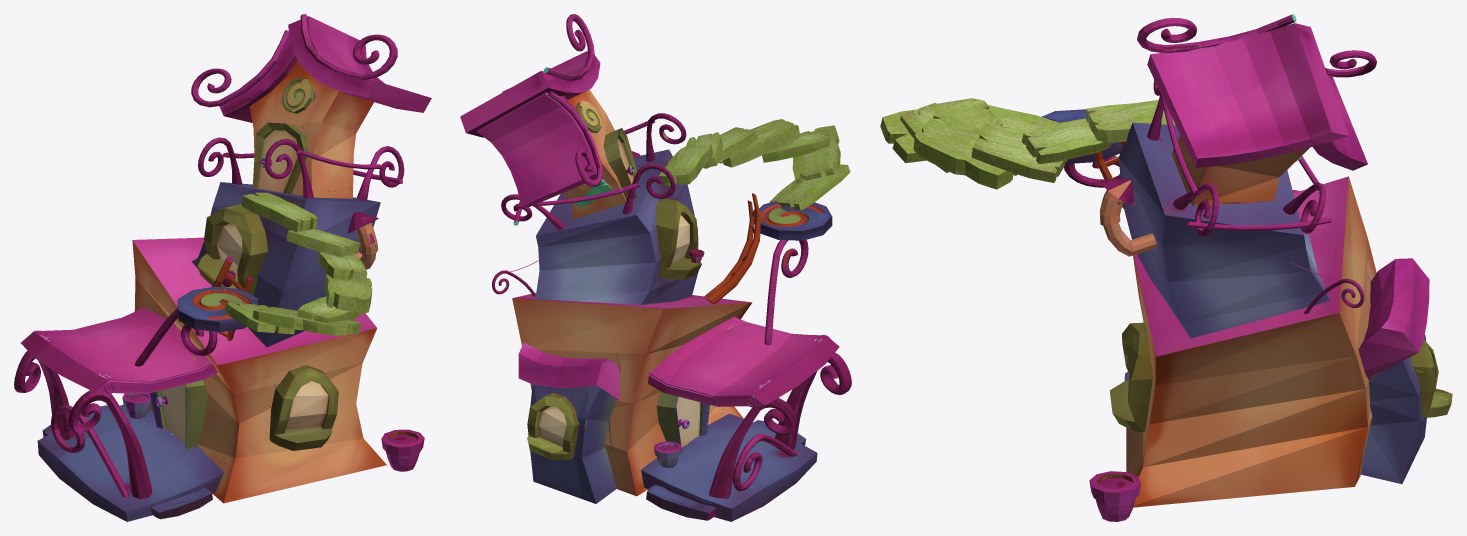
3 renders of one model, left to right at view 1: azimuth 30°, elevation 25°; view 2: azimuth 150°, elevation 25°; view 3: azimuth 270°, elevation 25°, orthographic. The views are drawn at different scales.
Parts seen in each view (by area): view 1: model; view 2: model; view 3: model.
Boxes of the visible parts, left/top/right/bottom form: model: left=14, top=14, right=431, bottom=521; model: left=460, top=14, right=851, bottom=521; model: left=880, top=14, right=1452, bottom=521.
Size of the model in its own units: 0.8939 by 0.9752 by 1.
1 material, 1 textured.
